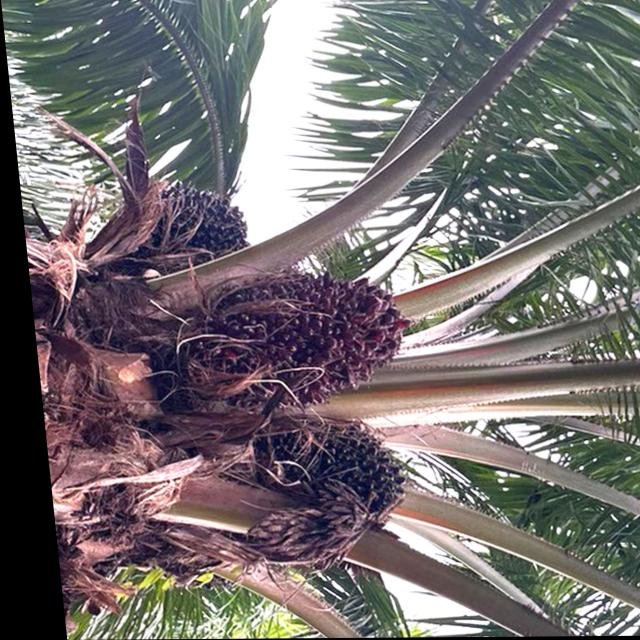ripe: (193, 265, 418, 401), (257, 421, 409, 522), (140, 181, 250, 254)
